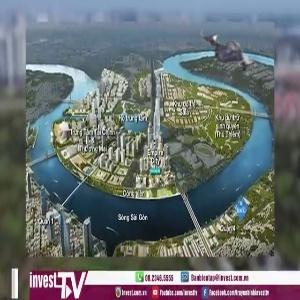drone: (193, 17, 266, 90)
